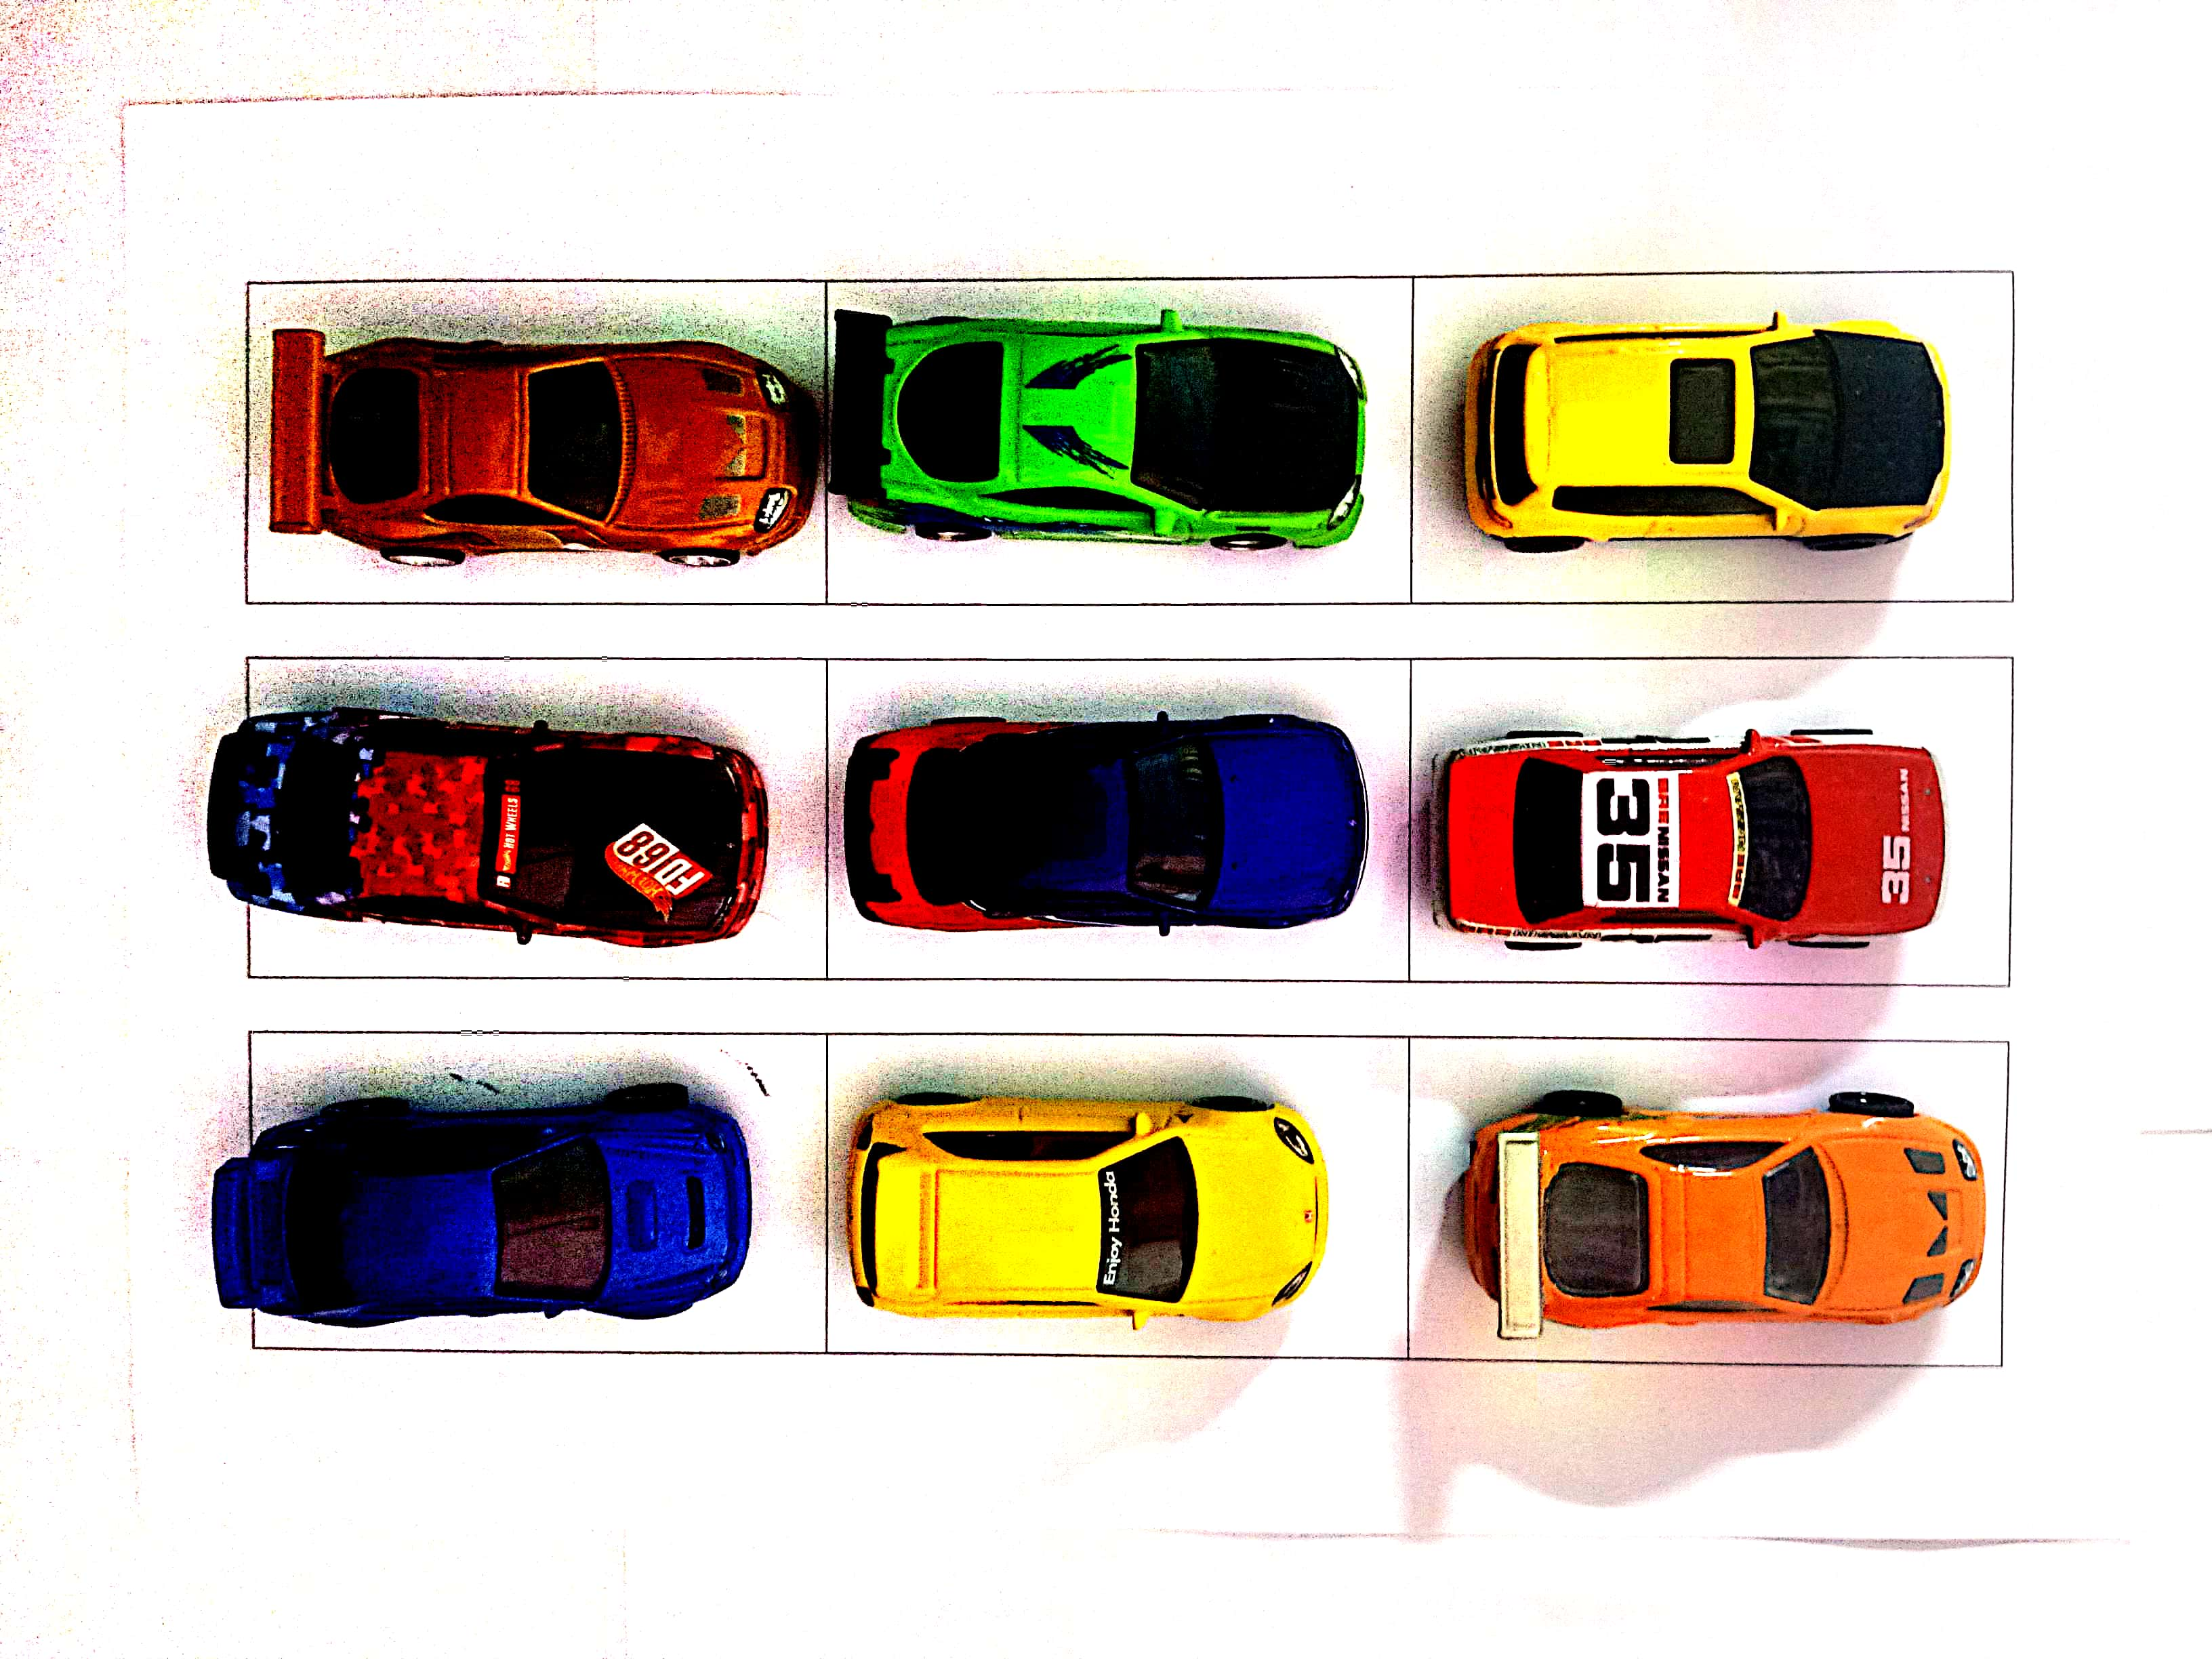Busy: (1414, 272, 2008, 601), (1409, 659, 2012, 979), (1409, 1039, 2008, 1358), (827, 1028, 1413, 1352), (827, 282, 1413, 605), (249, 282, 827, 605), (247, 659, 829, 971), (253, 1033, 824, 1347), (827, 664, 1404, 972)
